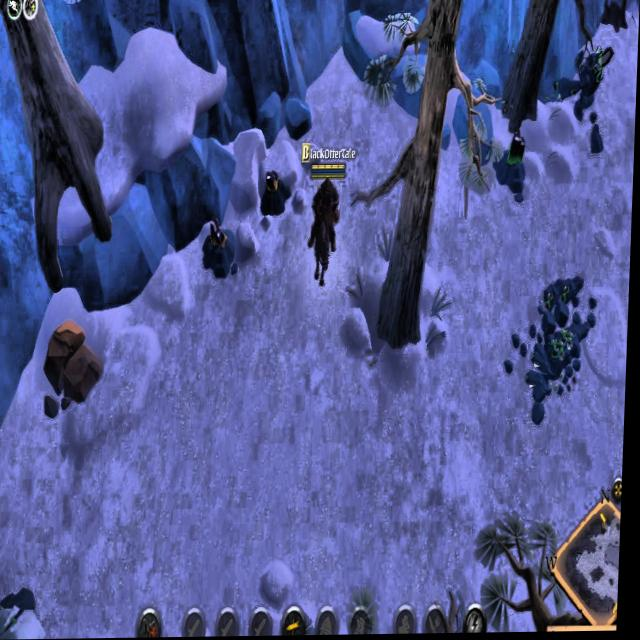copperore: (202, 217, 240, 286), (258, 168, 293, 218)
limestone: (43, 319, 109, 421)
tinore: (497, 132, 532, 197)
